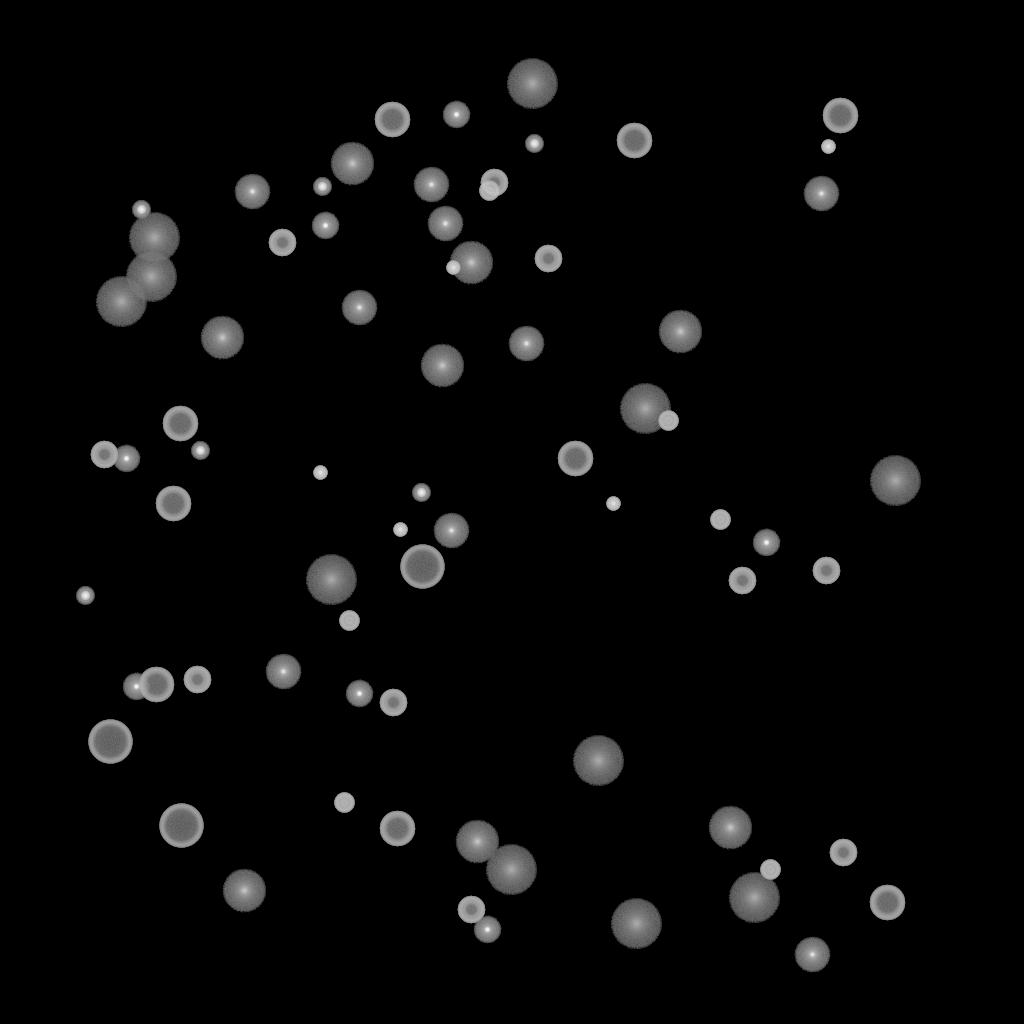depth:-10: (311, 212, 339, 240), (473, 916, 501, 944), (112, 445, 140, 473), (345, 680, 373, 708), (122, 673, 150, 701), (442, 101, 470, 129), (752, 529, 780, 557)
depth:-20: (525, 135, 543, 153), (191, 442, 209, 460), (76, 587, 94, 605), (313, 178, 331, 196), (412, 484, 430, 502), (132, 201, 150, 219)
depth:-30: (821, 140, 835, 154), (393, 523, 407, 537), (606, 497, 620, 511), (446, 261, 460, 275), (313, 466, 327, 480)
depth:-40: (710, 510, 730, 530), (479, 181, 499, 201), (658, 411, 678, 431), (339, 611, 359, 631), (760, 860, 780, 880), (334, 793, 354, 813)
depth:-50: (268, 229, 296, 257), (534, 245, 562, 273), (457, 896, 485, 924), (480, 169, 508, 197), (812, 557, 840, 585), (183, 666, 211, 694), (379, 689, 407, 717), (728, 567, 756, 595), (90, 441, 118, 469), (829, 839, 857, 867)
depth:-60: (374, 102, 410, 138), (822, 98, 858, 134), (379, 811, 415, 847), (155, 486, 191, 522), (162, 406, 198, 442), (869, 885, 905, 921), (138, 667, 174, 703), (557, 441, 593, 477), (616, 123, 652, 159)
depth:-70: (88, 720, 132, 764), (400, 545, 444, 589), (159, 804, 203, 848)
depth:0: (427, 206, 463, 242), (234, 174, 270, 210), (341, 290, 377, 326), (413, 167, 449, 203), (433, 513, 469, 549), (803, 176, 839, 212), (265, 654, 301, 690), (508, 326, 544, 362), (794, 937, 830, 973)
depth:10: (455, 820, 499, 864), (708, 806, 752, 850), (449, 241, 493, 285), (658, 310, 702, 354), (200, 316, 244, 360), (222, 869, 266, 913), (420, 344, 464, 388), (330, 142, 374, 186)
depth:20: (572, 736, 624, 786), (485, 845, 537, 895), (728, 873, 780, 923), (506, 59, 558, 109), (125, 252, 177, 302), (619, 384, 671, 434), (869, 456, 921, 506), (128, 213, 180, 263), (610, 899, 662, 949), (305, 555, 357, 605), (95, 277, 147, 327)
